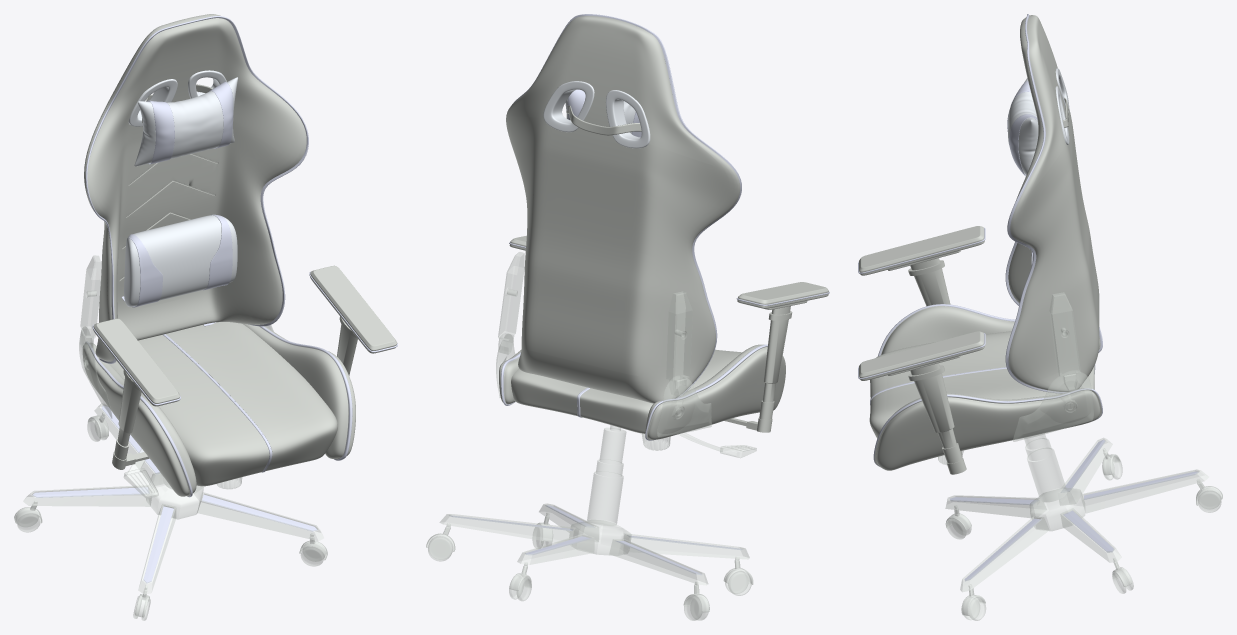
Rendered from chair.glb.
3 renders of one model, left to right at view 1: azimuth 30°, elevation 25°; view 2: azimuth 150°, elevation 25°; view 3: azimuth 270°, elevation 25°, orthographic. The views are drawn at different scales.
Visible parts, largest first — view 1: backrest, seat, outline, backCut, seatside, handrest, foot, base, arm, wheel, footBase, height_adjust; view 2: backrest, base, foot, seatside, seat, outline, backCut, wheel, arm, handrest, footBase, strip (+1 smaller); view 3: backrest, seatside, base, outline, foot, seat, handrest, arm, wheel, backCut, footBase.
Part boxes in pixels (box(x1,y1,x2,y2)): backrest: box(84, 14, 306, 361); seat: box(110, 322, 337, 486); outline: box(32, 16, 397, 583); backCut: box(124, 70, 237, 306); seatside: box(82, 323, 355, 496); handrest: box(93, 265, 397, 406); foot: box(23, 403, 323, 594); base: box(79, 255, 273, 489); arm: box(112, 316, 357, 469); wheel: box(14, 412, 327, 620); footBase: box(146, 472, 203, 519); height_adjust: box(124, 448, 158, 498); backrest: box(506, 16, 740, 403); base: box(496, 252, 711, 525); foot: box(439, 503, 749, 585); seatside: box(499, 344, 785, 439); seat: box(511, 349, 741, 433); outline: box(449, 14, 829, 575); backCut: box(543, 81, 650, 148); wheel: box(426, 513, 753, 620); arm: box(724, 306, 792, 432); handrest: box(509, 235, 828, 309); footBase: box(569, 520, 631, 555); strip: box(566, 105, 641, 135); backrest: box(1008, 15, 1099, 391); seatside: box(874, 306, 1101, 470); base: box(938, 292, 1093, 501); outline: box(858, 14, 1198, 581); foot: box(945, 438, 1208, 591); seat: box(869, 331, 1094, 438); handrest: box(859, 226, 984, 380); arm: box(908, 258, 966, 474); wheel: box(945, 448, 1222, 620); backCut: box(1008, 68, 1069, 262); footBase: box(1030, 488, 1085, 530).
Bounding box in the file's own units: 1.79 × 3.6 × 2.16.
